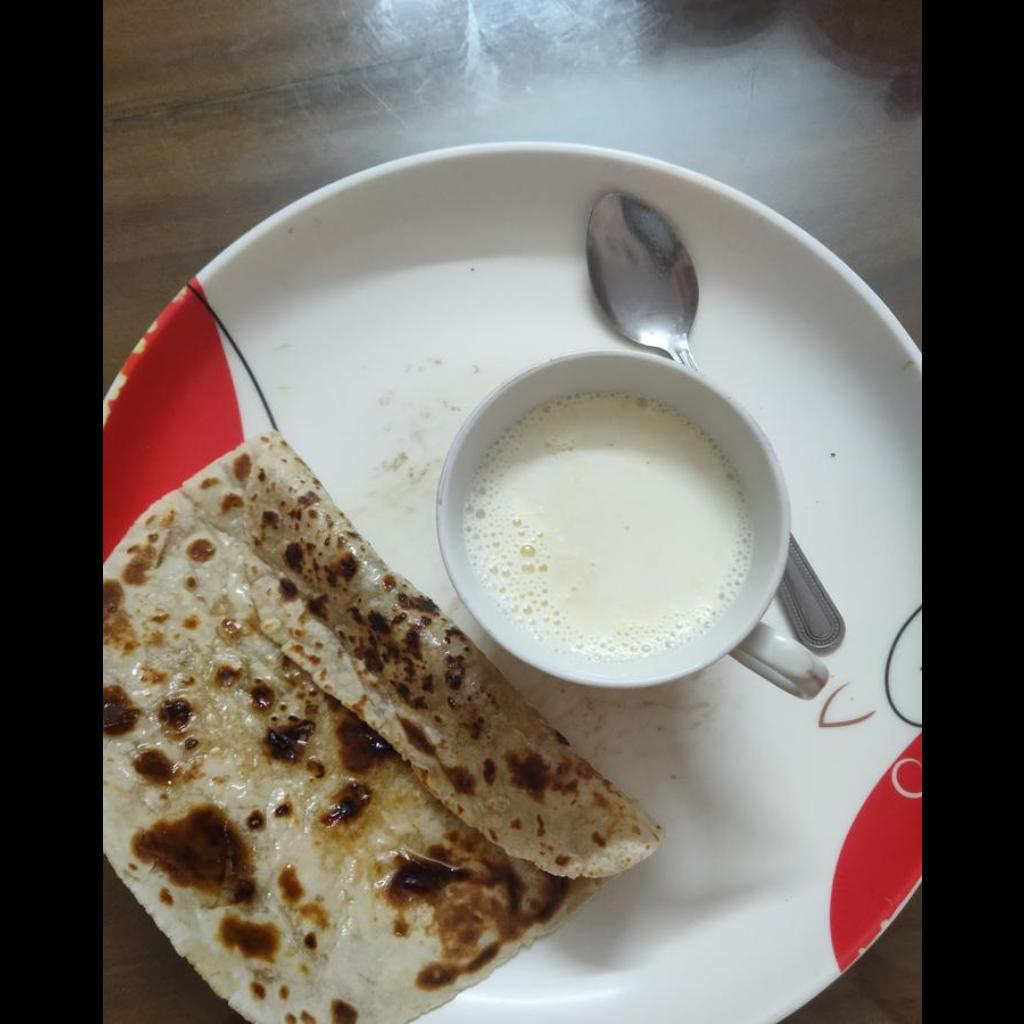milk: (467, 398, 746, 657)
ruti: (102, 429, 671, 1023)
